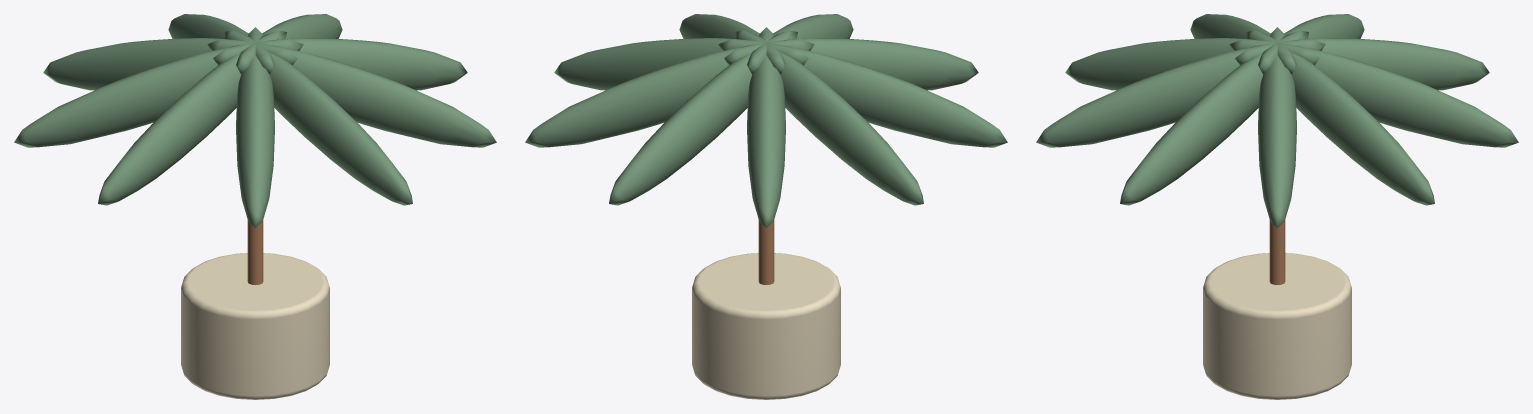
File: palm.glb
The picture shows the model from 3 angles, left to right: view 1: azimuth 30°, elevation 25°; view 2: azimuth 150°, elevation 25°; view 3: azimuth 270°, elevation 25°; orthographic projection.
Parts seen in each view (by area): view 1: Body_leaf, Body_cream, Body_wood; view 2: Body_leaf, Body_cream, Body_wood; view 3: Body_leaf, Body_cream, Body_wood.
Boxes of the visible parts, x1,y1,x2,y2 form: Body_leaf: (14, 14, 496, 227); Body_cream: (181, 253, 329, 399); Body_wood: (247, 220, 263, 284); Body_leaf: (525, 14, 1007, 227); Body_cream: (692, 253, 840, 399); Body_wood: (758, 220, 774, 284); Body_leaf: (1036, 14, 1518, 227); Body_cream: (1203, 253, 1351, 399); Body_wood: (1269, 220, 1285, 284).
Bounding box in the file's own units: 2.42 × 1.85 × 2.46.
